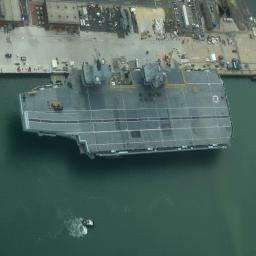Portanaves: (18, 53, 236, 162)
